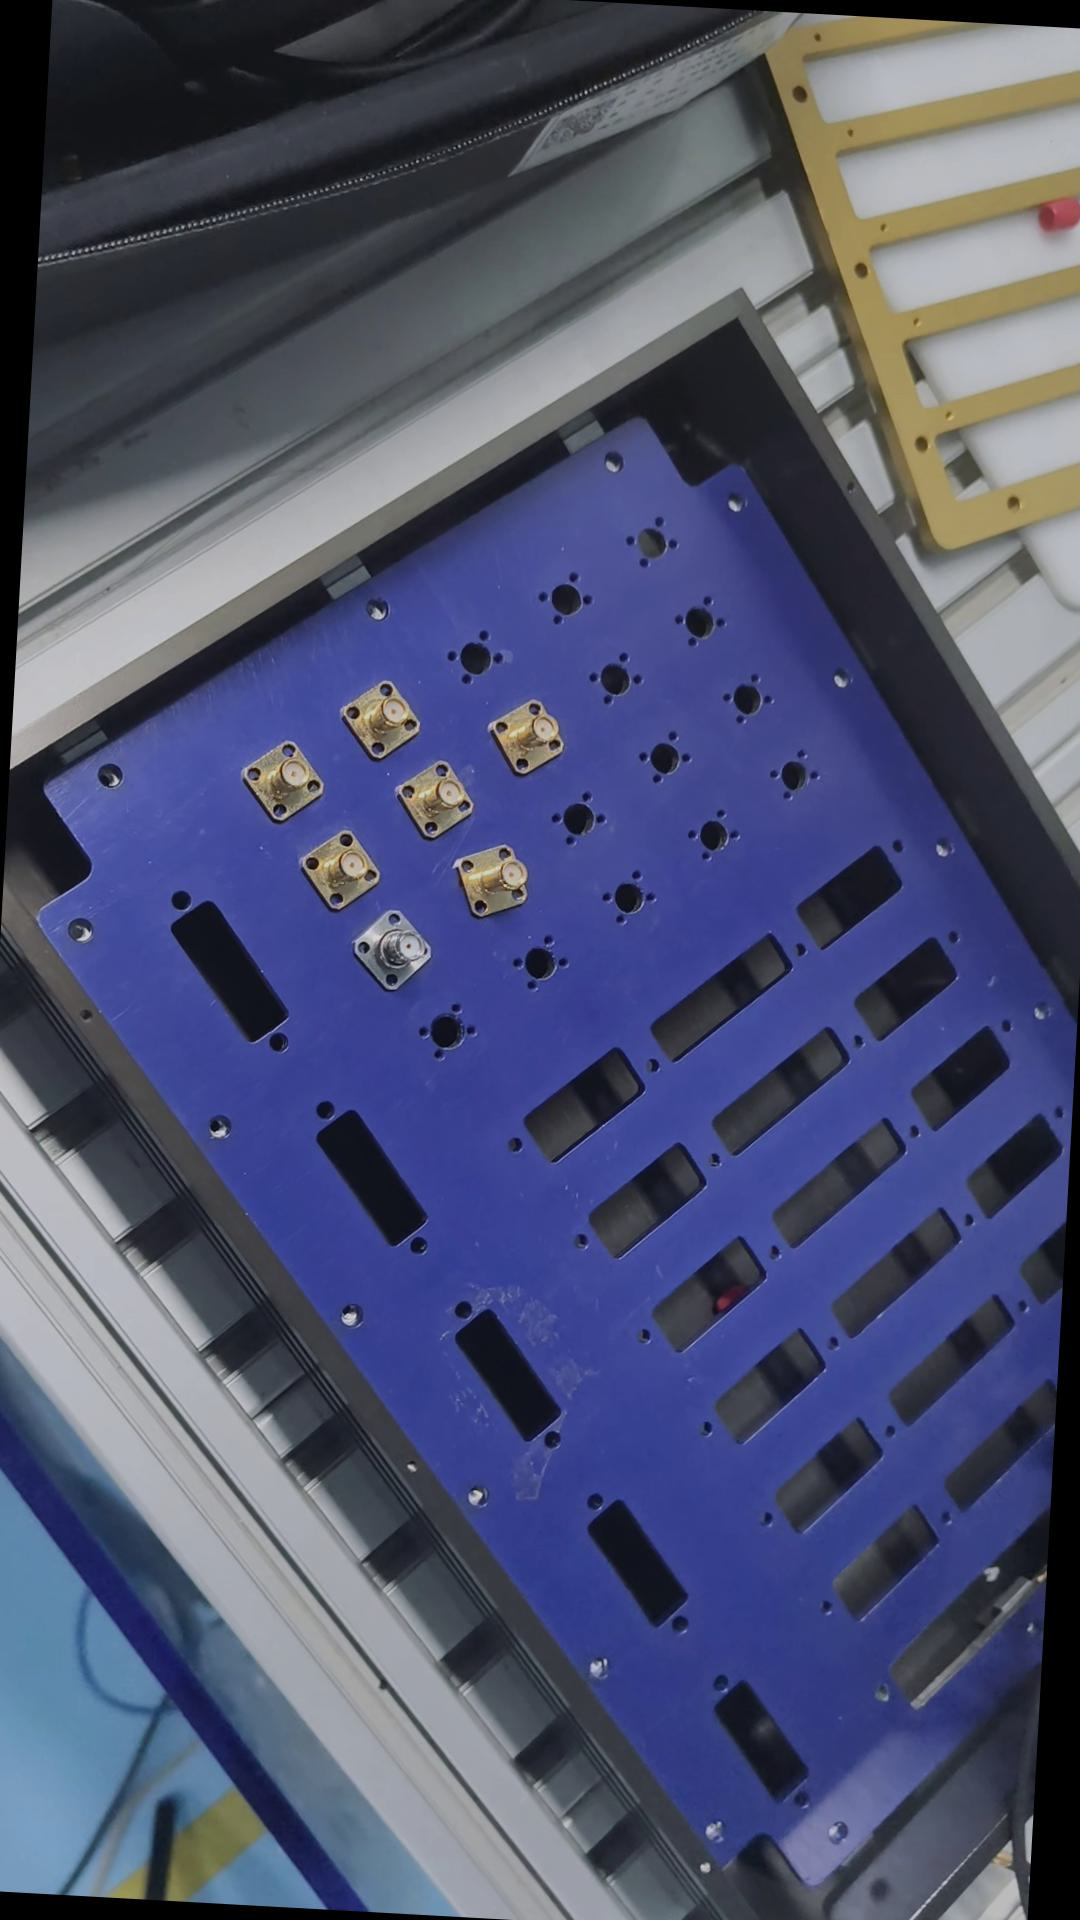SMA: (237, 733, 330, 825), (293, 822, 388, 909), (353, 901, 440, 990), (339, 676, 429, 761), (491, 694, 575, 781), (397, 754, 480, 840), (458, 841, 535, 920)
